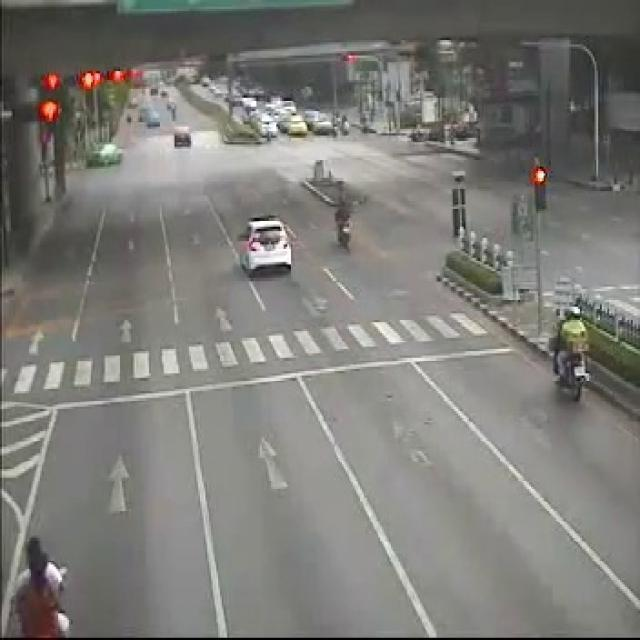car: (2, 0, 638, 71)
